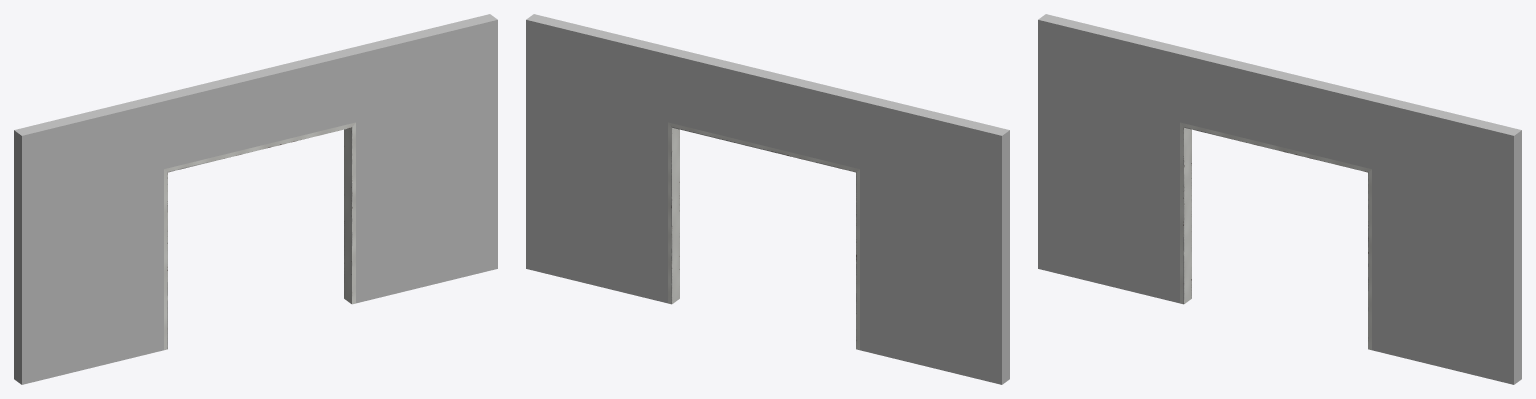
The model's file is SM_Wall_Interior_Gate_SingleFloor_Capped.fbx.
3 renders of one model, left to right at view 1: azimuth 30°, elevation 25°; view 2: azimuth 150°, elevation 25°; view 3: azimuth 330°, elevation 25°, orthographic.
Parts seen in each view (by area): view 1: SM_Wall_Interior_Gate_SingleFloor_Capped; view 2: SM_Wall_Interior_Gate_SingleFloor_Capped; view 3: SM_Wall_Interior_Gate_SingleFloor_Capped.
Part boxes in pixels (x1,y1,x2,y2): SM_Wall_Interior_Gate_SingleFloor_Capped: (14, 14, 497, 384); SM_Wall_Interior_Gate_SingleFloor_Capped: (526, 14, 1009, 384); SM_Wall_Interior_Gate_SingleFloor_Capped: (1038, 14, 1521, 384).
Size of the model in its own units: 700 by 20 by 350.
